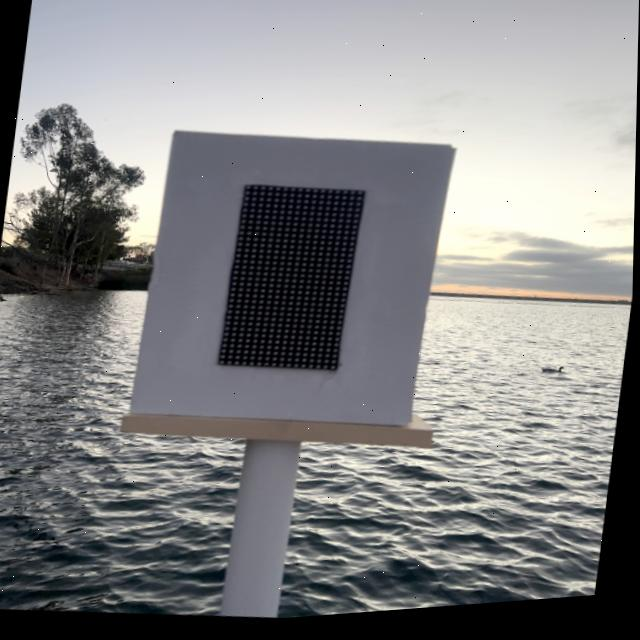led: (160, 146, 417, 431)
